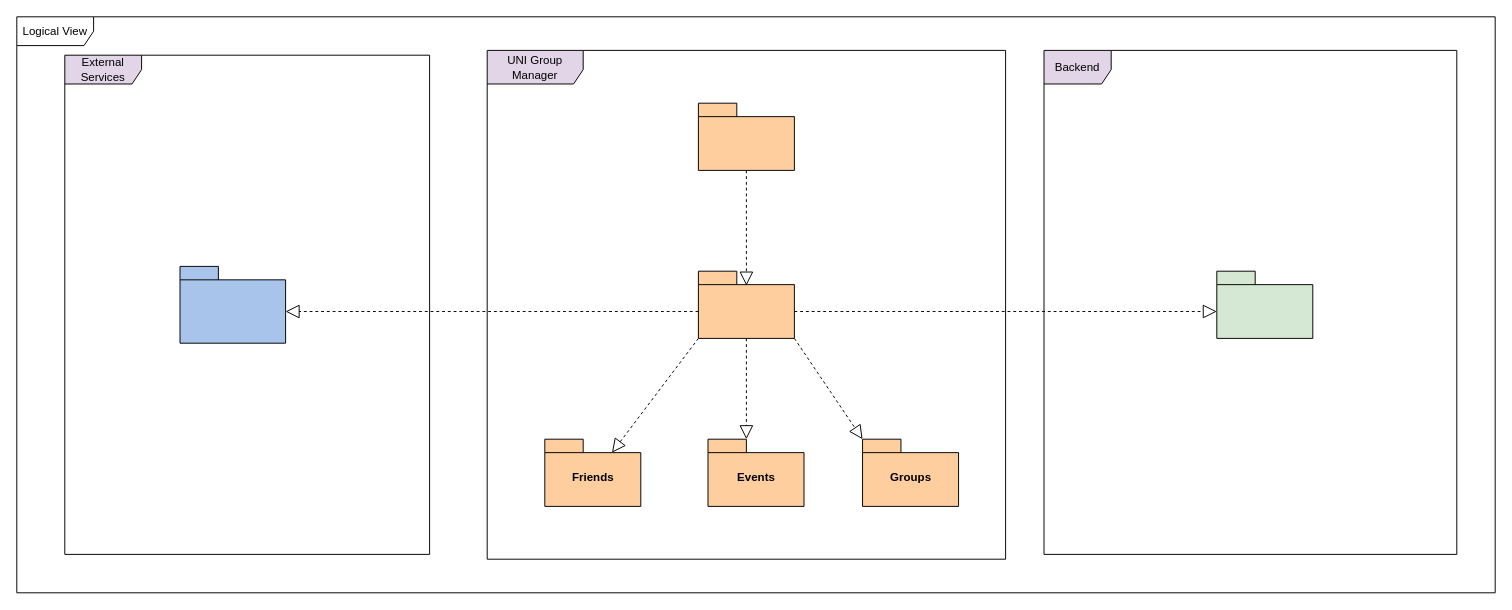
This 1512x610 diagram has some shape labels left out. The centre of each missing label's shape, as x and y in pixels:
Controller: the point at 745,304
Google Sheets: the point at 1264,304
Sigarra Student Search: the point at 232,304
View: the point at 745,136
